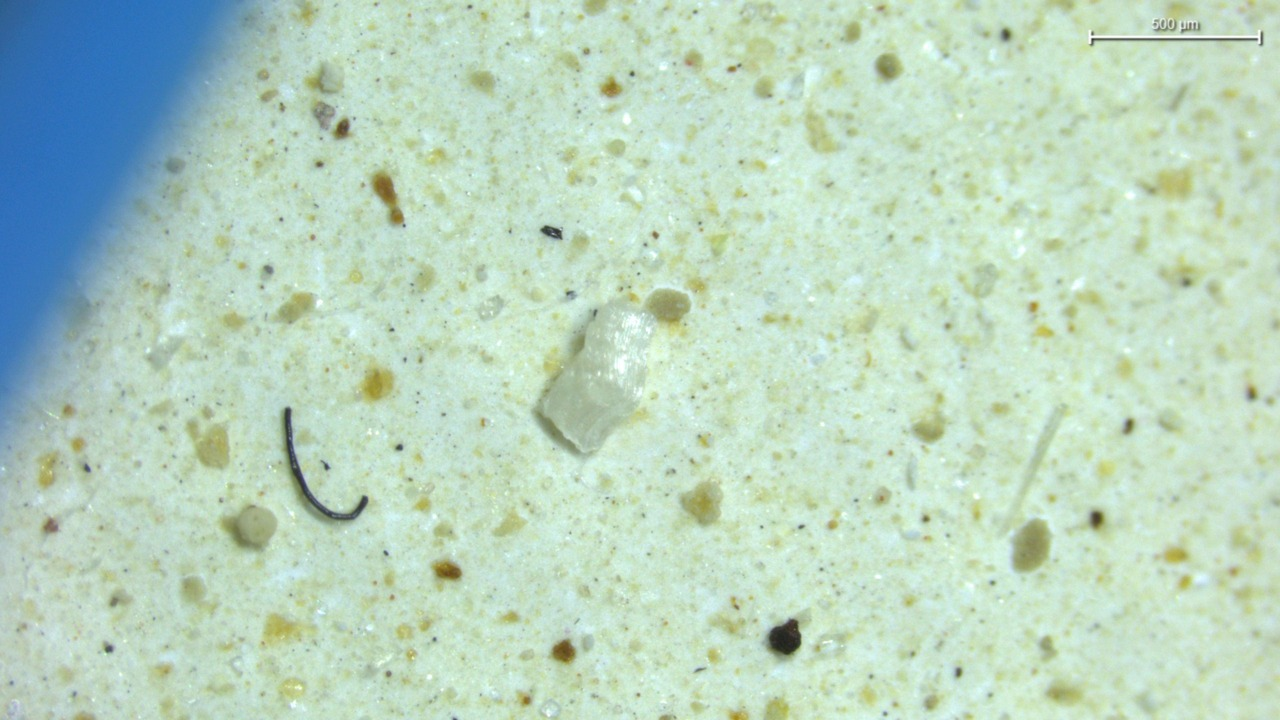microplastic_fragment: (538, 300, 657, 453)
